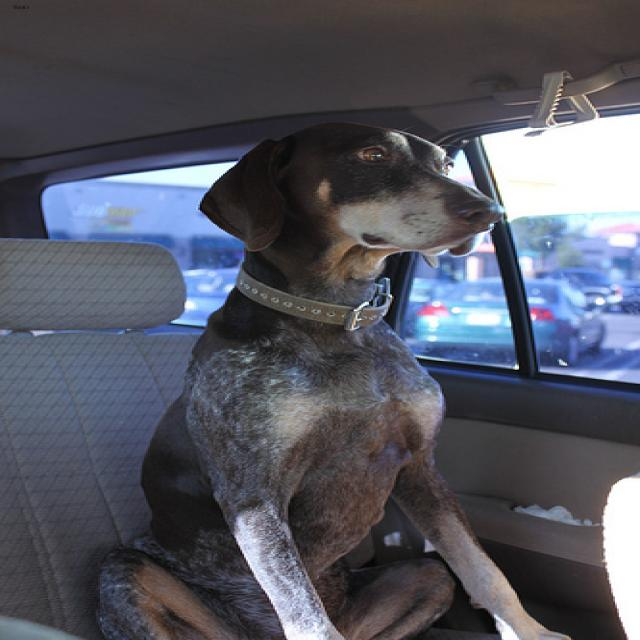dog-german_shorthaired: (88, 116, 584, 637)
